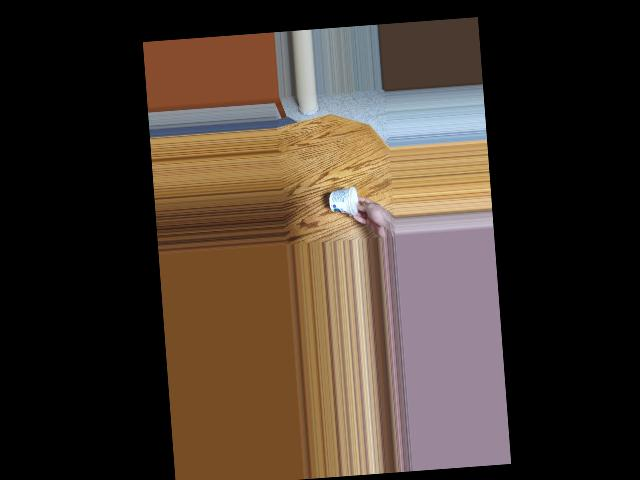cotage: (332, 183, 364, 213)
